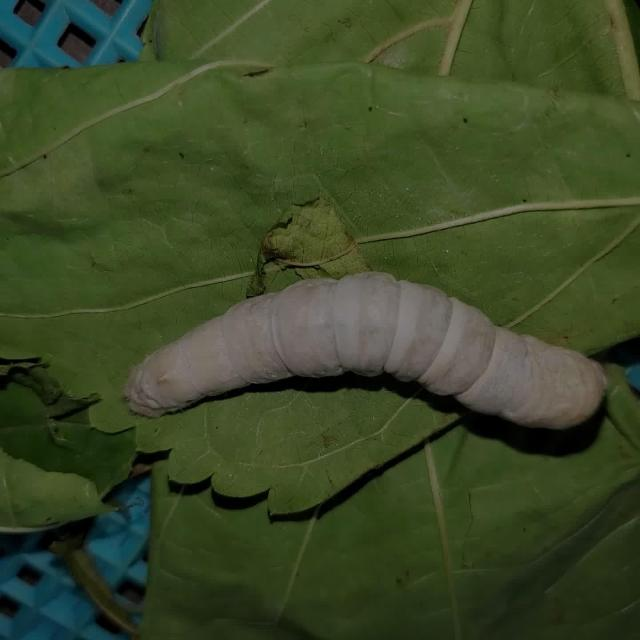Grasserie: (94, 234, 634, 482)
